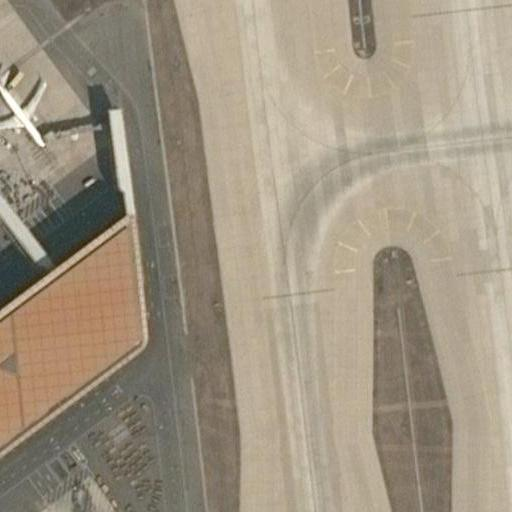Aircraft: (0, 66, 61, 151)
